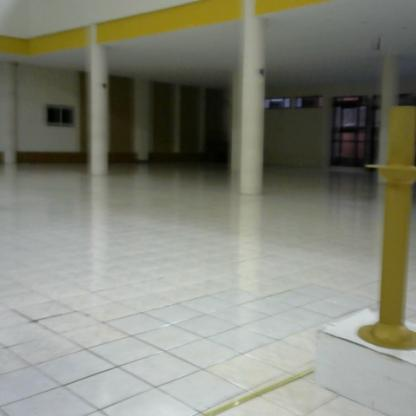pole: (353, 101, 416, 362)
